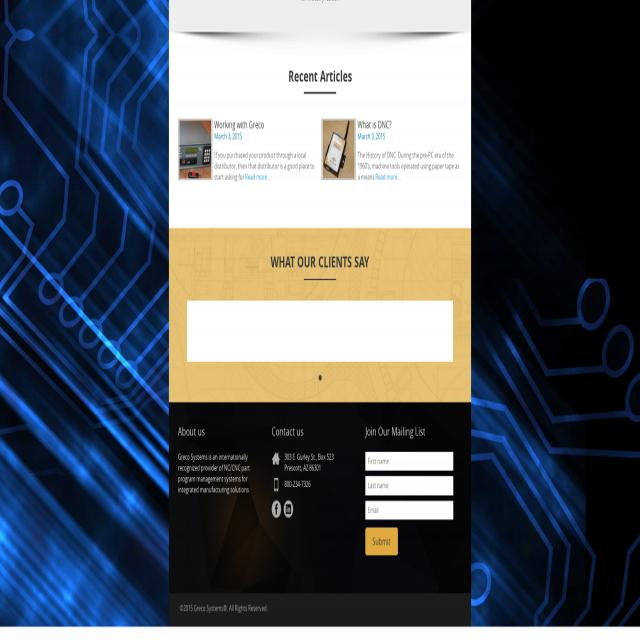button: (178, 119, 212, 180), (322, 119, 356, 180), (365, 528, 398, 555), (272, 500, 281, 518), (284, 500, 293, 518), (317, 373, 322, 383)
field: (365, 476, 453, 496), (365, 500, 453, 520), (365, 452, 453, 471)
